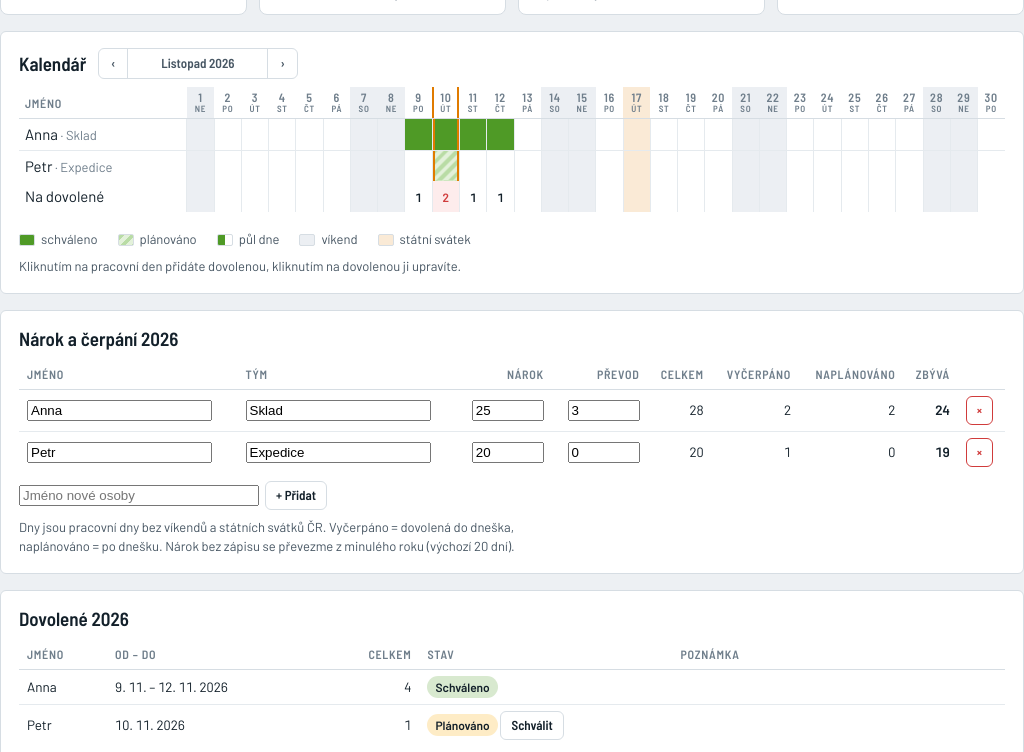
Test: Dovolené › přidání osoby a obsazené jméno
The width and height of the screenshot is (1024, 752).
(page scrolled)
Type "Anna" into the field labelled "Jméno nové osoby". click: (139, 496)
box: [19, 485, 259, 506]
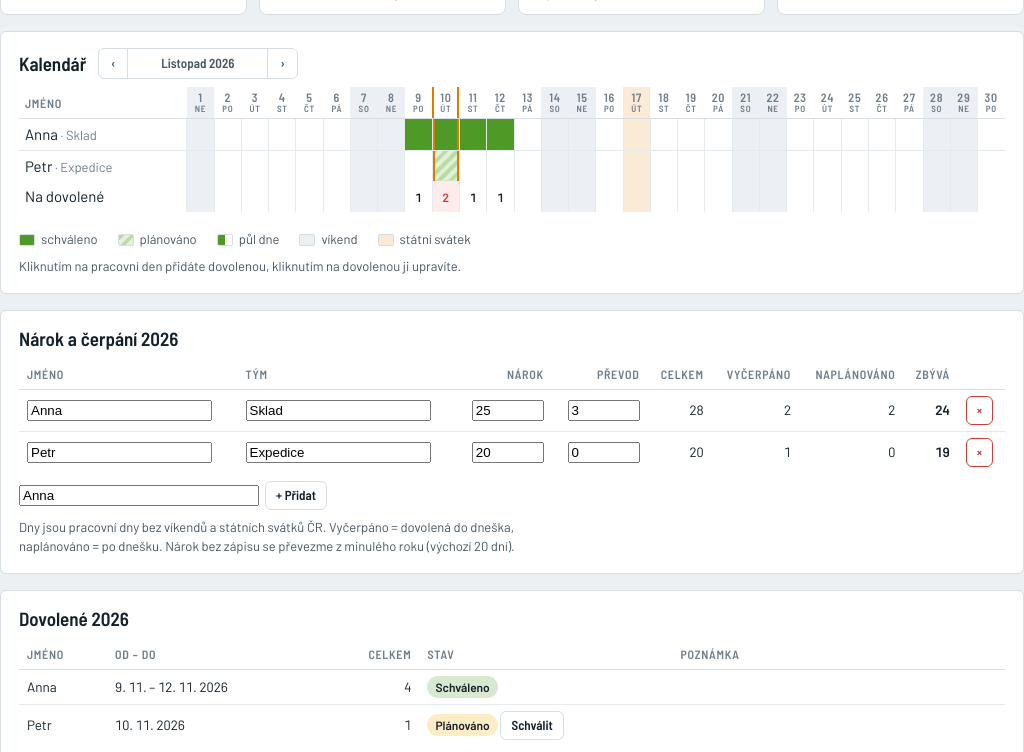
Click the button "+ Přidat". click: (296, 496)
box: [265, 481, 327, 510]
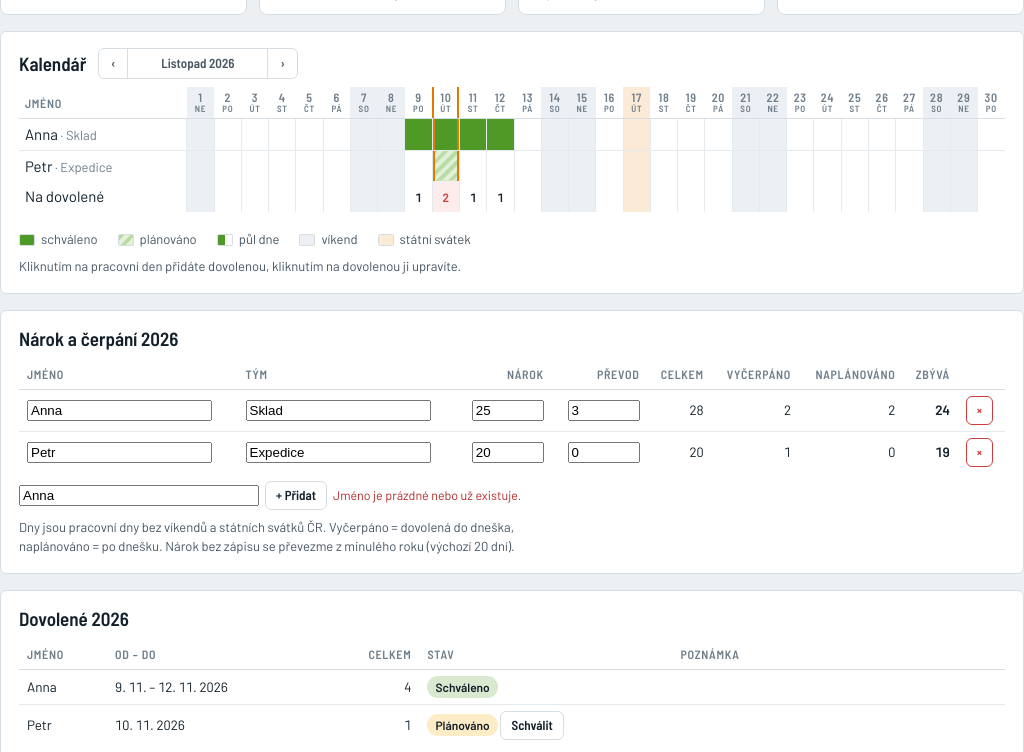
Check: the text "Jméno je prázdné nebo už existuje." is shown, box [333, 486, 521, 505]
Replace the text in the field named "Jméno nové osoby" with "Jan". click: (139, 496)
box: [19, 485, 259, 506]
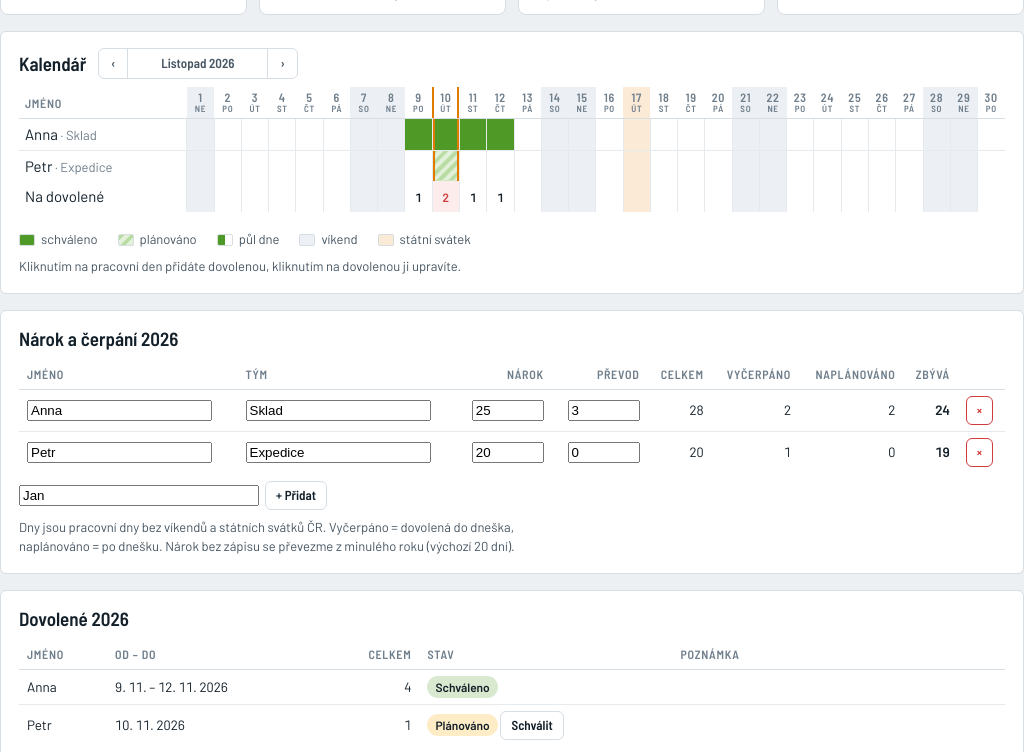
Click the button "+ Přidat". click: (296, 496)
box: [265, 481, 327, 510]
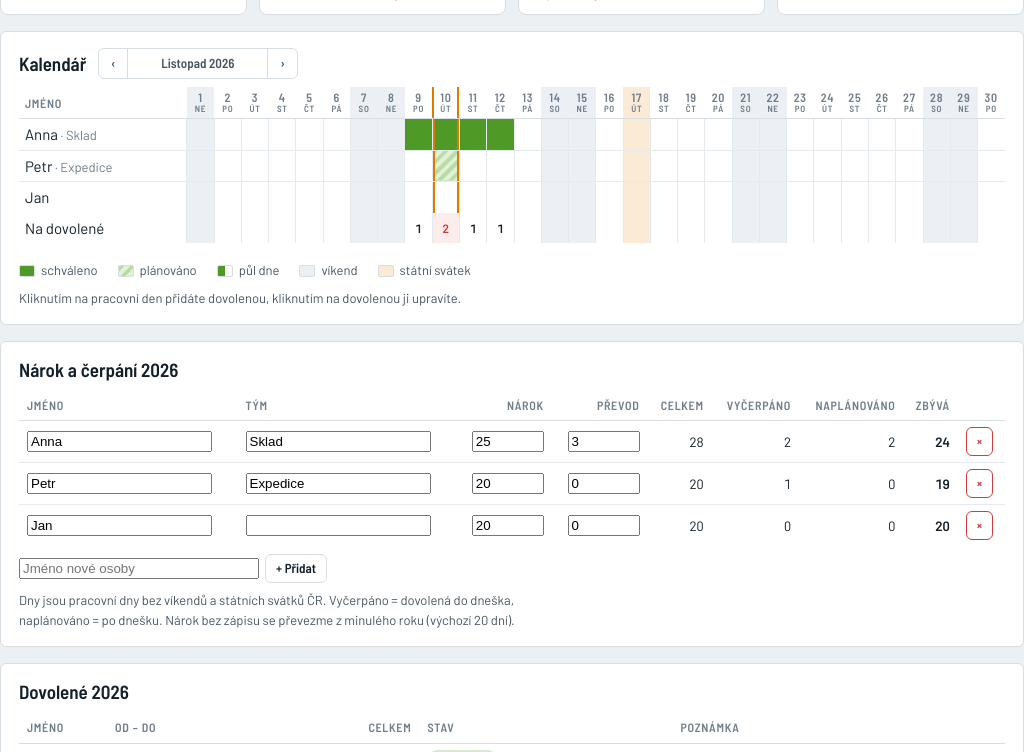
Check: the number of fields showing "Jan" is 1, box [27, 516, 212, 536]
